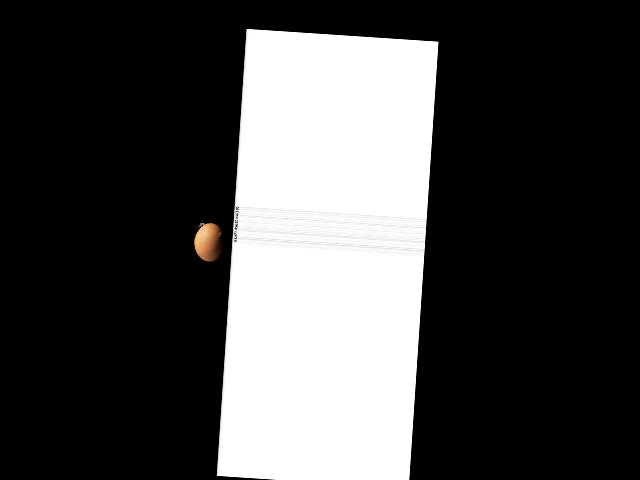egg: (193, 222, 226, 263)
